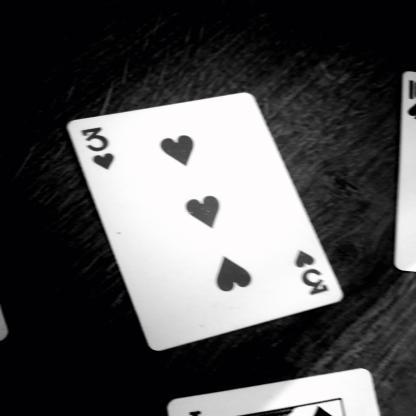3H: (78, 121, 128, 172), (288, 241, 330, 301)
